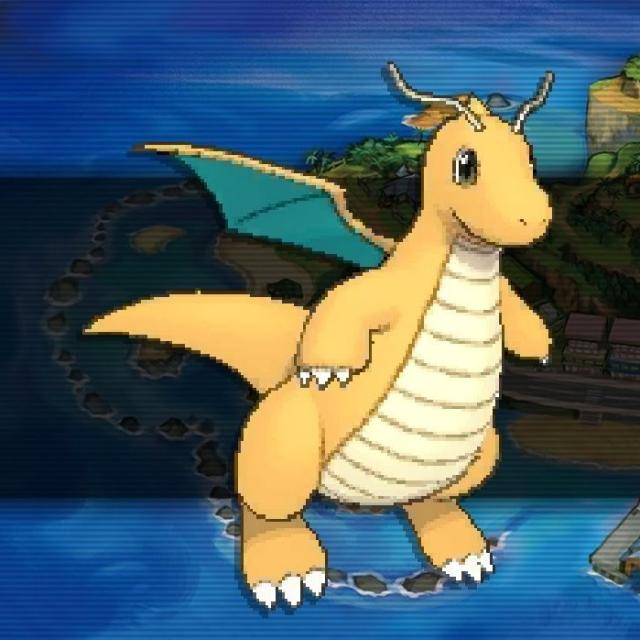Dragonite: (215, 74, 560, 604)
